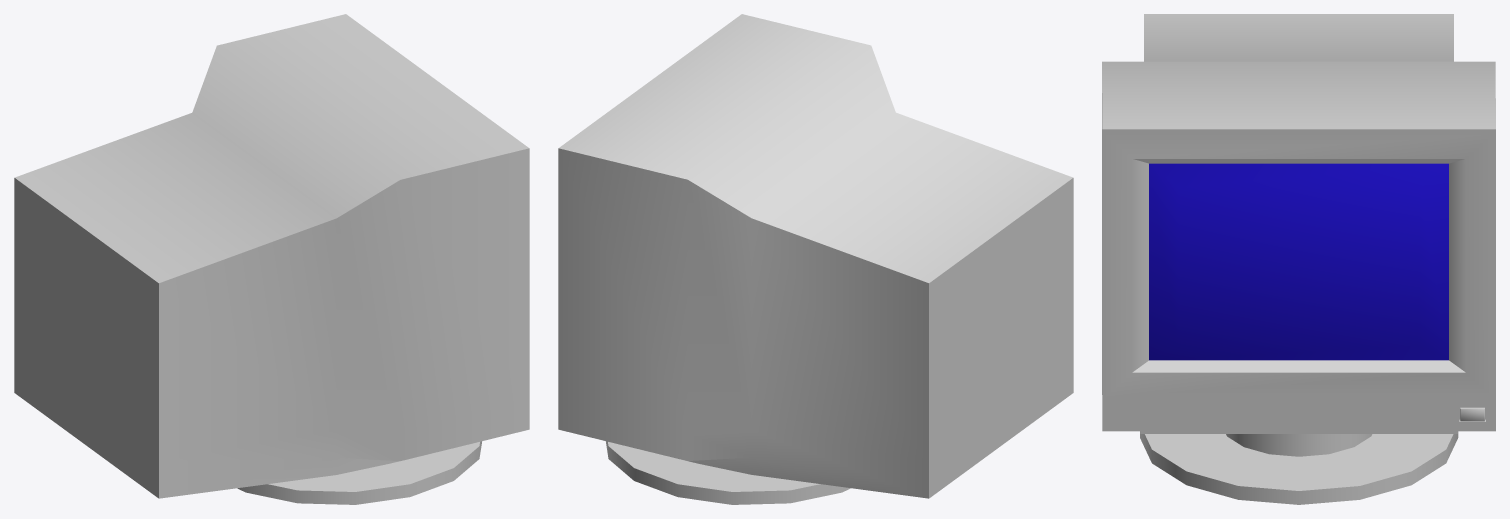
The model's file is CRTMonitor.fbx.
3 views of the same model, side by side, from view 1: azimuth 30°, elevation 25°; view 2: azimuth 150°, elevation 25°; view 3: azimuth 270°, elevation 25° (orthographic). The views are drawn at different scales.
Visible parts, largest first — view 1: Cube; view 2: Cube; view 3: Cube.
Part boxes in pixels (box(x1,y1,x2,y2)): Cube: box(14, 14, 529, 504); Cube: box(558, 14, 1073, 504); Cube: box(1102, 14, 1495, 504).
Bounding box in the file's own units: 473 × 403 × 398.
